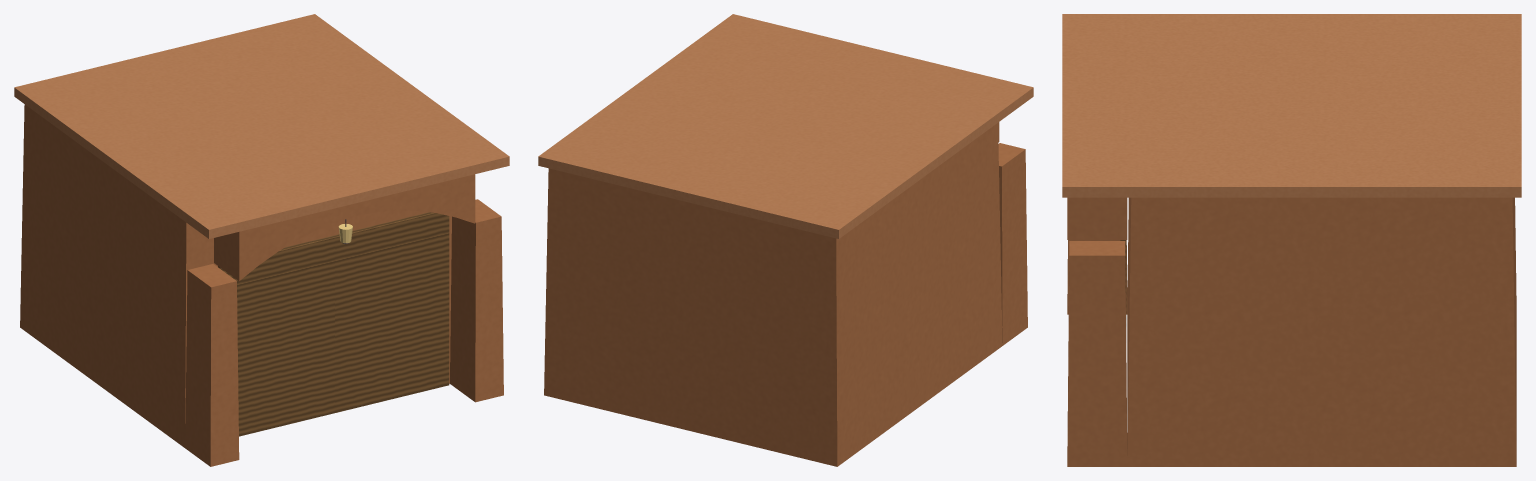
The model's file is SM_Souq_Stall_W4D45H30.fbx.
3 views of the same model, side by side, from view 1: azimuth 30°, elevation 25°; view 2: azimuth 150°, elevation 25°; view 3: azimuth 270°, elevation 25° (orthographic). The views are drawn at different scales.
Parts seen in each view (by area): view 1: SM_Souq_Stall_W4D45H30; view 2: SM_Souq_Stall_W4D45H30; view 3: SM_Souq_Stall_W4D45H30.
Part boxes in pixels (x1,y1,x2,y2): SM_Souq_Stall_W4D45H30: [14, 14, 509, 466]; SM_Souq_Stall_W4D45H30: [538, 14, 1033, 466]; SM_Souq_Stall_W4D45H30: [1062, 14, 1521, 466].
Size of the model in its own units: 4.1 by 3.12 by 4.6.
